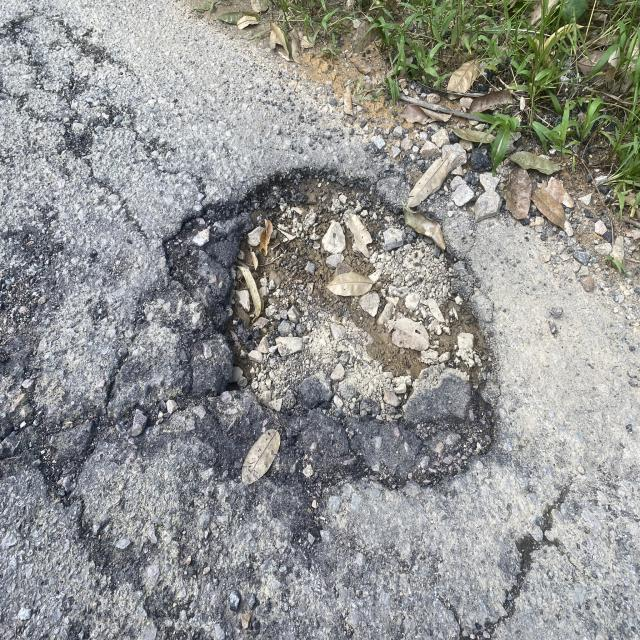pothole: (142, 142, 569, 600)
